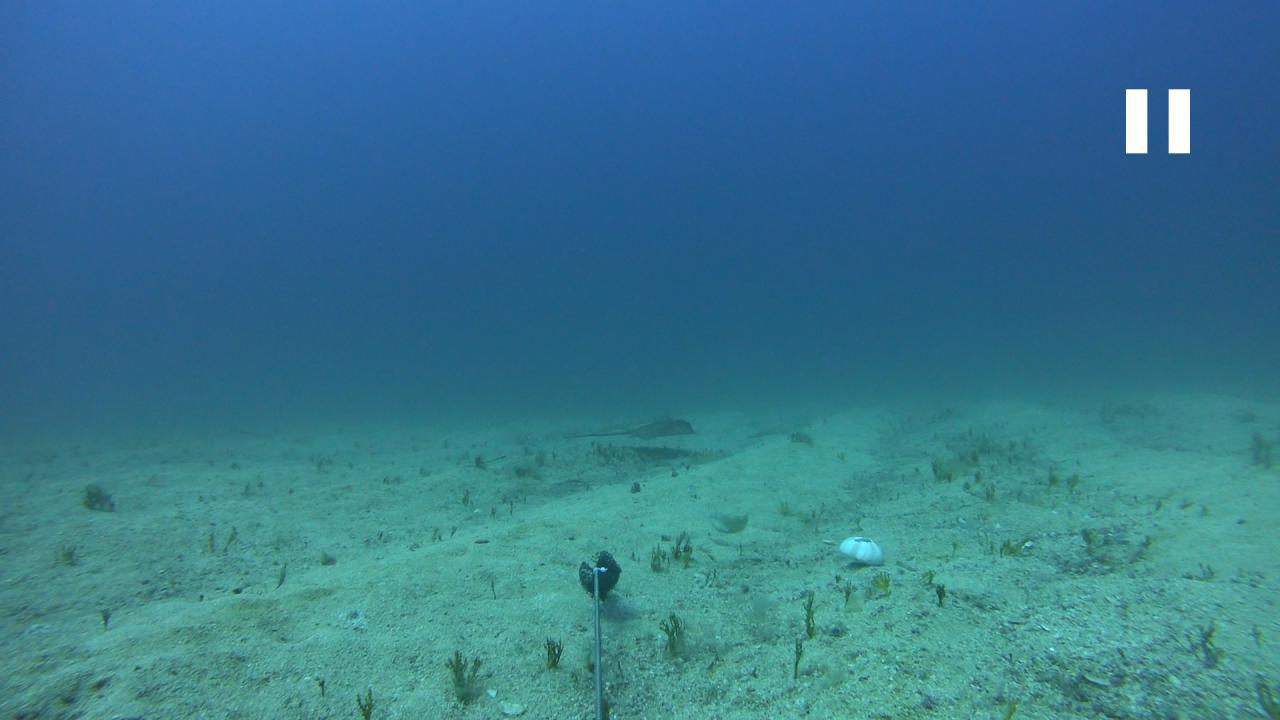dasyatis: (567, 412, 696, 440)
raor: (708, 506, 754, 536)
